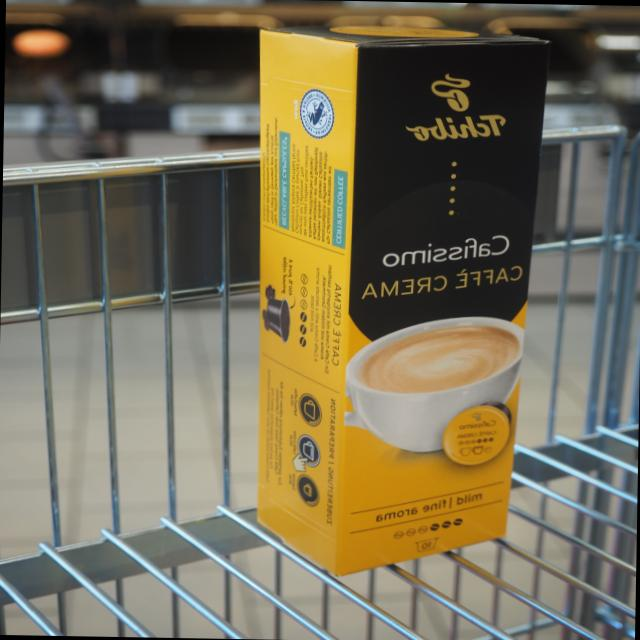Simo CCMild bigpack: (250, 16, 555, 610)
